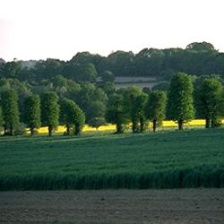neutral: (2, 3, 221, 224)
